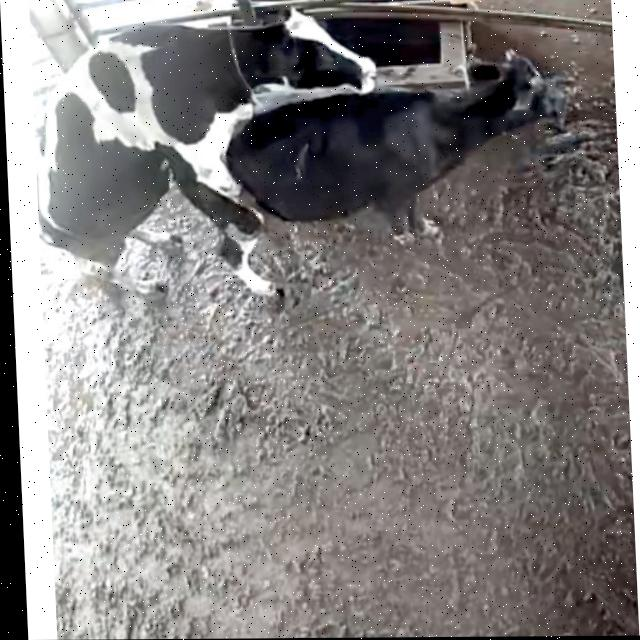ride: (29, 0, 394, 322)
